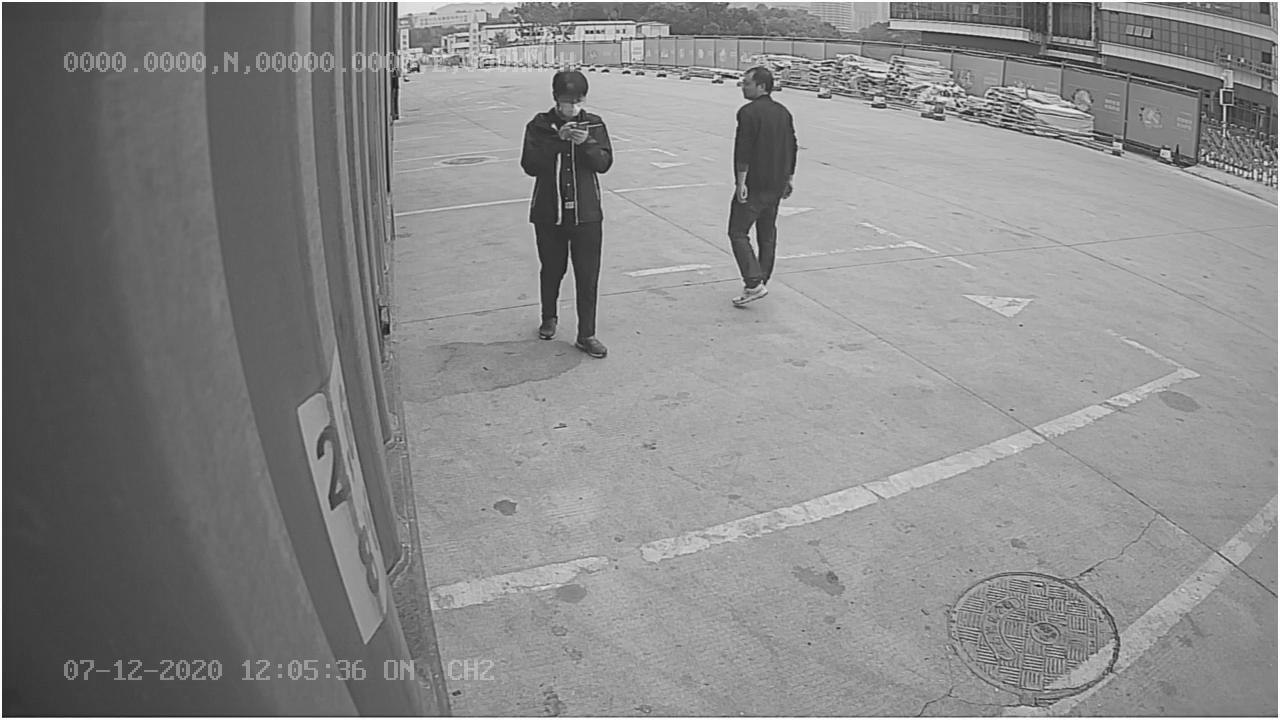person: (514, 60, 616, 358), (717, 60, 802, 309)
